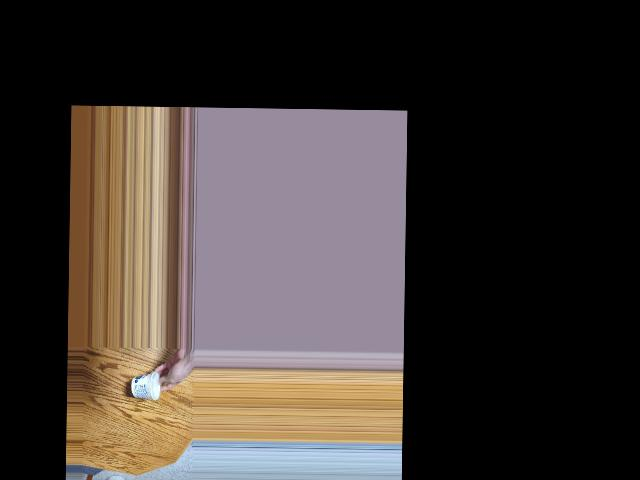cotage: (132, 369, 162, 399)
